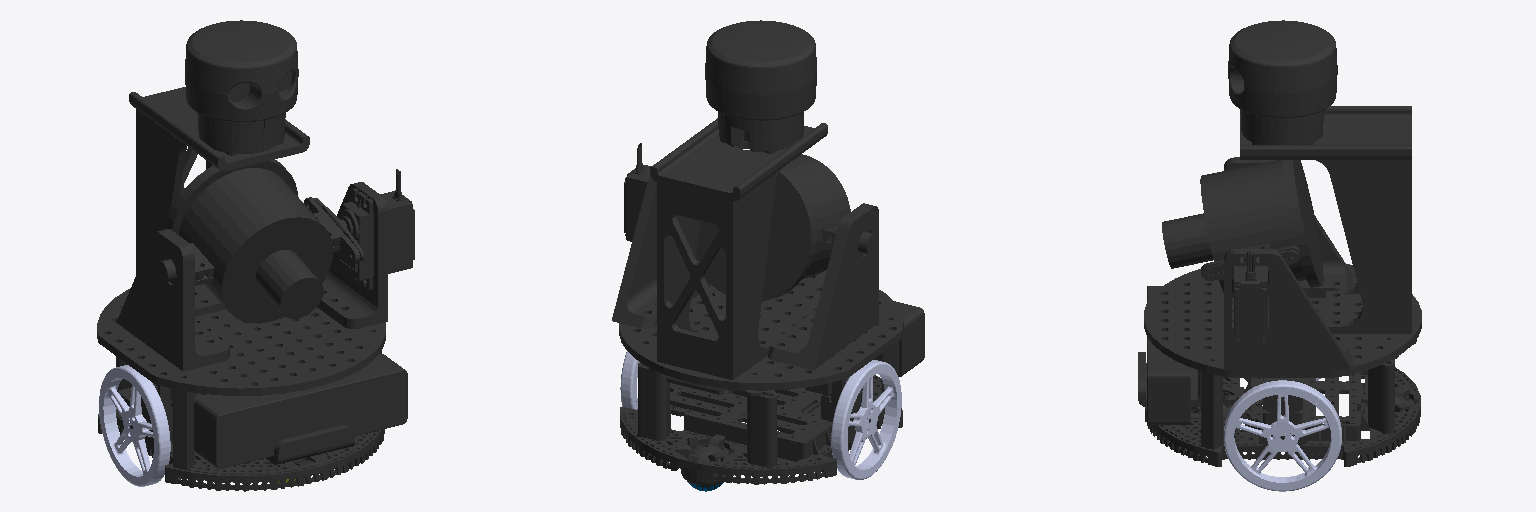
robot.urdf — turtlebotmini:
<?xml version="1.0" ?>
<robot
  name="turtlebotmini">


<!--  <link name="base_footprint"/>

  <joint name="base_joint" type="fixed">
    <parent link="base_footprint"/>
    <child link="base_link"/>
    <origin xyz="0.0 0.0 0.010" rpy="0 0 0"/>
  </joint>-->


  <link
    name="base_link">
    <inertial>
      <origin
        xyz="0.0011869 -0.007673 0.12049"
        rpy="0 0 0" />
      <mass
        value="10.0" />
      <inertia
        ixx="0.01"
        ixy="0.0"
        ixz="0.0"
        iyy="0.01"
        iyz="0.0"
        izz="0.01" />
    </inertial>
    <visual>
      <origin
        xyz="0 0 0"
        rpy="0 0 0" />
      <geometry>
        <mesh
          filename="package://minimapping/meshes/base_link.stl" />
      </geometry>
      <material
        name="">
        <color
          rgba="0.25098 0.25098 0.25098 1" />
      </material>
    </visual>
    <collision>
      <origin
        xyz="0 0 0"
        rpy="0 0 0" />
      <geometry>
        <mesh
          filename="package://minimapping/meshes/base_link.stl" />
      </geometry>
    </collision>
  </link>
  <link
    name="wheel_left_link">
    <inertial>
      <origin
        xyz="0.0069553 1.1547E-06 -2.619E-07"
        rpy="0 0 0" />
      <mass
        value="0.012859" />
        <inertia
          ixx="0.001"
          ixy="0.0"
          ixz="0.0"
          iyy="0.001"
          iyz="0.0"
          izz="0.001" />
    </inertial>
    <visual>
      <origin
        xyz="0 0 0"
        rpy="0 0 0" />
      <geometry>
        <mesh
          filename="package://minimapping/meshes/wheel_left_link.stl" />
      </geometry>
      <material
        name="">
        <color
          rgba="0.79216 0.81961 0.93333 1" />
      </material>
    </visual>
    <collision>
      <origin
        xyz="0 0 0"
        rpy="0 0 0" />
      <geometry>
        <mesh
          filename="package://minimapping/meshes/wheel_left_link.stl" />
      </geometry>
    </collision>
  </link>
  <joint
    name="wheel_left_joint"
    type="continuous">
    <origin
      xyz="0.063388 0 0.035"
      rpy="1.5708 0 0" />
    <parent
      link="base_link" />
    <child
      link="wheel_left_link" />
    <axis
      xyz="1 0 0" />
  </joint>
  <link
    name="wheel_right_link">
    <inertial>
      <origin
        xyz="0.0069553 1.1547E-06 -2.619E-07"
        rpy="0 0 0" />
      <mass
        value="0.012859" />
        <inertia
          ixx="0.001"
          ixy="0.0"
          ixz="0.0"
          iyy="0.001"
          iyz="0.0"
          izz="0.001" />
    </inertial>
    <visual>
      <origin
        xyz="0 0 0"
        rpy="0 0 0" />
      <geometry>
        <mesh
          filename="package://minimapping/meshes/wheel_right_link.stl" />
      </geometry>
      <material
        name="">
        <color
          rgba="0.79216 0.81961 0.93333 1" />
      </material>
    </visual>
    <collision>
      <origin
        xyz="0 0 0"
        rpy="0 0 0" />
      <geometry>
        <mesh
          filename="package://minimapping/meshes/wheel_right_link.stl" />
      </geometry>
    </collision>
  </link>
  <joint
    name="wheel_right_joint"
    type="continuous">
    <origin
      xyz="-0.063388 0 0.035"
      rpy="2.7498 0 3.1416" />
    <parent
      link="base_link" />
    <child
      link="wheel_right_link" />
    <axis
      xyz="-1 0 0" />
  </joint>


<link name="caster_front_link">
   <visual>
     <geometry>
       <sphere radius="0.0127"/>
     </geometry>
     <material name="red"/>
   </visual>
   <inertial>
     <origin xyz="0 0 0" />
     <mass value="0.01" />
     <inertia ixx="0.001" ixy="0.0" ixz="0.0"
              iyy="0.001" iyz="0.0"
              izz="0.001" />
   </inertial>
 </link>

 <joint name="caster_front_joint" type="fixed">
   <parent link="base_link"/>
   <child link="caster_front_link"/>
   <origin xyz="0 -0.0445 0.0128"/>
 </joint>

<link name="caster_back_link">
   <visual>
     <geometry>
       <sphere radius="0.0127"/>
     </geometry>
     <material name="red"/>
   </visual>
   <inertial>
     <origin xyz="0 0 0" />
     <mass value="0.01" />
     <inertia ixx="0.001" ixy="0.0" ixz="0.0"
              iyy="0.001" iyz="0.0"
              izz="0.001" />
   </inertial>
 </link>

 <joint name="caster_back_joint" type="fixed">
   <parent link="base_link"/>
   <child link="caster_back_link"/>
   <origin xyz="0 0.064 0.0128"/>
 </joint>

<joint name="hokuyo_joint" type="fixed">
  <axis xyz="0 1 0" />
  <origin xyz="0.0 0.0 0.241" rpy="0 0 -1.5707963"/>  <!-- Z: 0.241 -->
  <parent link="base_link"/>
  <child link="hokuyo_link"/>
</joint>

<!-- Hokuyo Laser -->
<link name="hokuyo_link">
  <collision>
    <origin xyz="0 0 0" rpy="0 0 0"/>
    <geometry>
    <box size="0.1 0.1 0.1"/>
    </geometry>
  </collision>

  <visual>
    <origin xyz="0 0 0" rpy="0 0 0"/>
    <geometry>
    <box size="0.01 0.01 0.01" />
<!--      <mesh filename="package://minimapping/meshes/hokuyo.dae"/> -->
    </geometry>
  </visual>

  <inertial>
    <mass value="1e-5" />
    <origin xyz="0 0 0" rpy="0 0 0"/>
    <inertia ixx="1e-6" ixy="0" ixz="0" iyy="1e-6" iyz="0" izz="1e-6" />
  </inertial>
</link>


</robot>

--- What the picture shows (computed from the rendered views, not written in the file) ---
3 views of the same robot in one strip: view 1: azimuth 30°, elevation 25°; view 2: azimuth 150°, elevation 25°; view 3: azimuth 270°, elevation 25° (orthographic).
Model turtlebotmini with 6 links and 5 joints (2 continuous, 3 fixed), rooted at base_link, posed every joint at zero.
Visible links, largest first — view 1: base_link, wheel_right_link; view 2: base_link, wheel_right_link, wheel_left_link; view 3: base_link, wheel_left_link.
Boxes of the visible links, bbox=[...] form: base_link: bbox=[97, 20, 414, 491]; wheel_right_link: bbox=[99, 365, 170, 486]; base_link: bbox=[612, 20, 924, 490]; wheel_right_link: bbox=[831, 360, 901, 479]; wheel_left_link: bbox=[620, 351, 639, 409]; base_link: bbox=[1138, 20, 1421, 466]; wheel_left_link: bbox=[1224, 380, 1341, 491].
Size in the robot's own frame: 0.1737 by 0.168 by 0.2615 metres.
Meshes: 3 distinct files referenced, 3 mesh visuals loaded (3 binary STL).